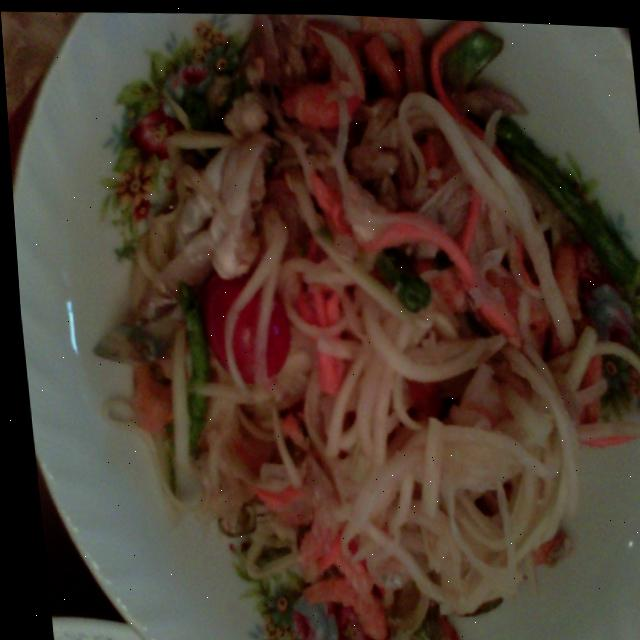蔬菜料理: (30, 4, 640, 640)
